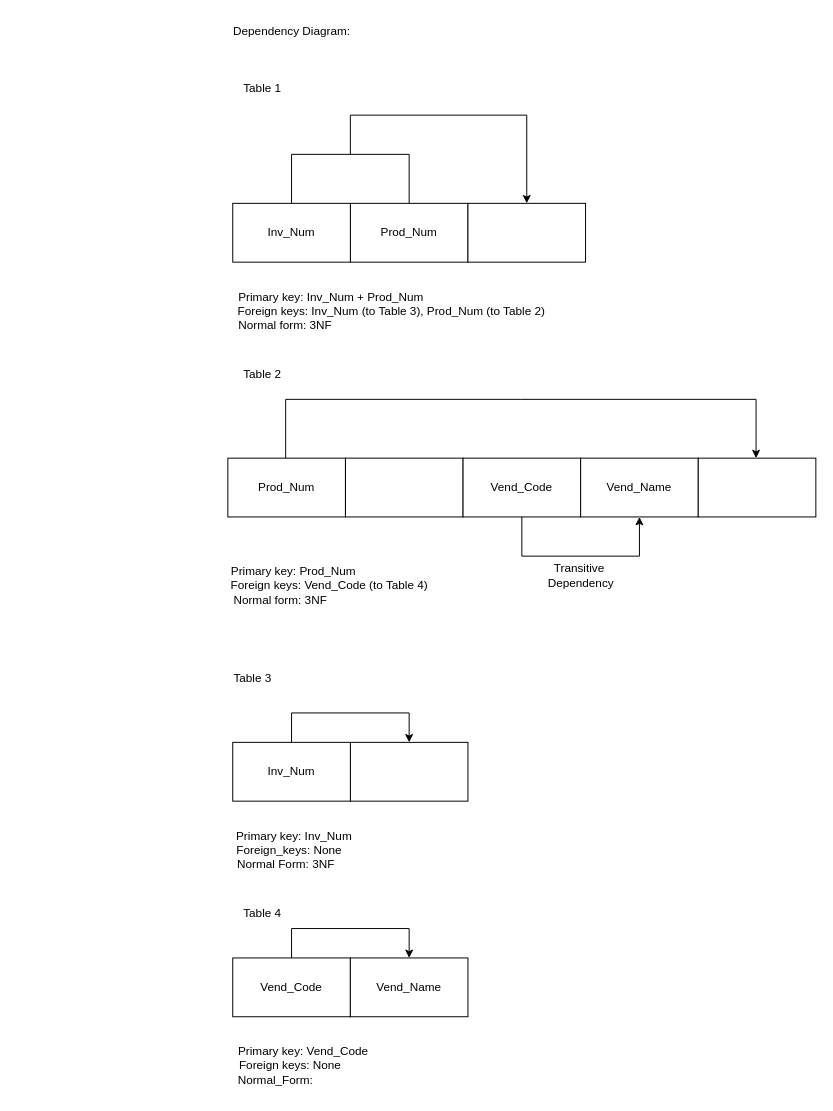
Image size: 833x1111. Some labels were removed from this diagram. Each missing label, with the centre of its shape:
"Prod_Label" goes at (403,487).
"Prod_Name" goes at (756,487).
"Quant_Sold" goes at (526,232).
"Sale_Date" goes at (408,771).
